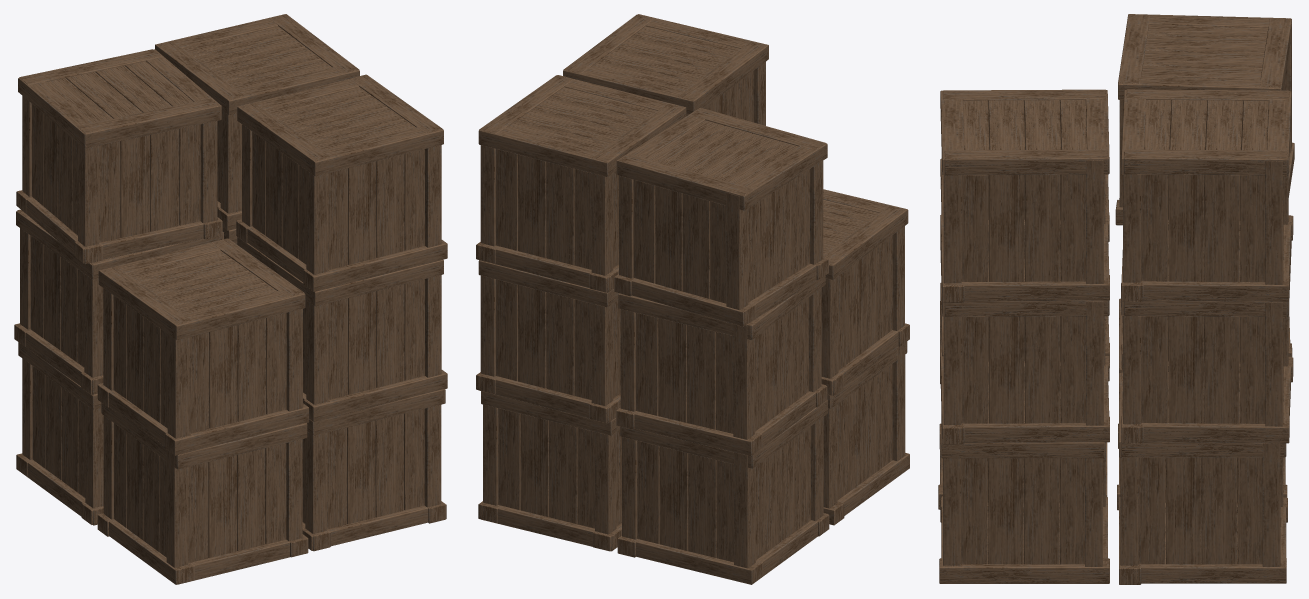
The model's file is SM_crate_group_03.fbx.
The picture shows the model from 3 angles, left to right: view 1: azimuth 30°, elevation 25°; view 2: azimuth 150°, elevation 25°; view 3: azimuth 270°, elevation 25°; orthographic projection. The views are drawn at different scales.
Visible parts, largest first — view 1: SM_crate_group_03; view 2: SM_crate_group_03; view 3: SM_crate_group_03.
Boxes of the visible parts, left/top/right/bottom form: SM_crate_group_03: left=14, top=14, right=447, bottom=584; SM_crate_group_03: left=476, top=14, right=909, bottom=584; SM_crate_group_03: left=938, top=14, right=1294, bottom=584.
Bounding box in the file's own units: 133 × 134 × 176.
Materials: 1 (1 with a texture image).
